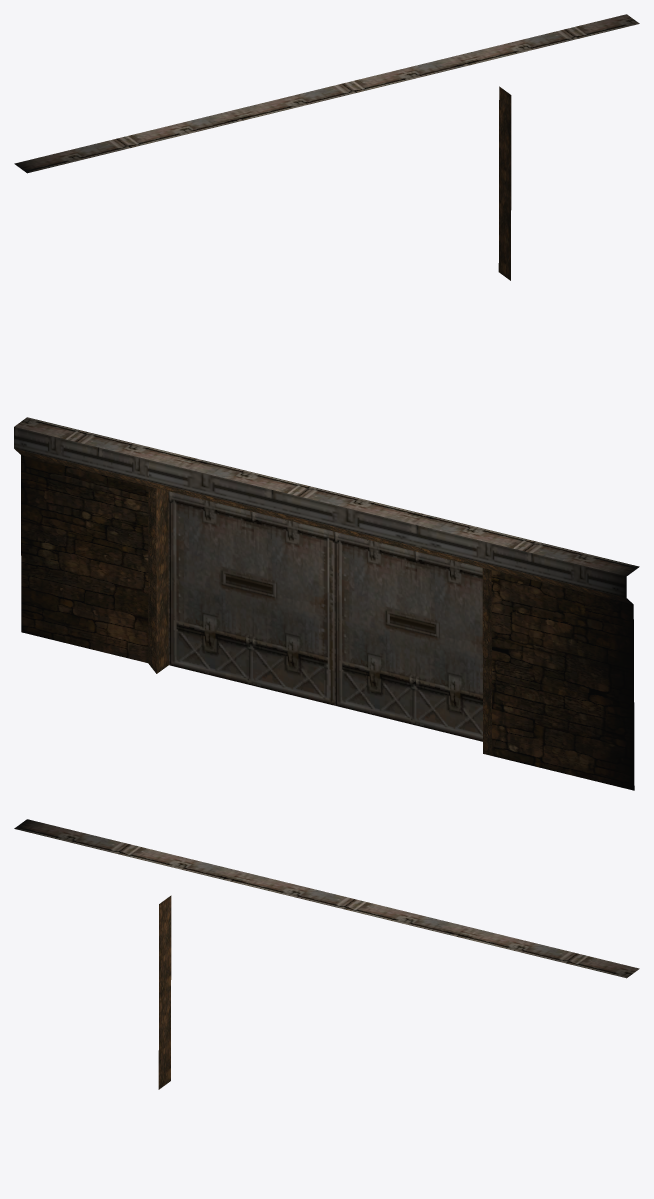
Rendered from M10_Z1_TunnelGate01.glb.
The picture shows the model from 3 angles, top to bottom: view 1: azimuth 30°, elevation 25°; view 2: azimuth 150°, elevation 25°; view 3: azimuth 330°, elevation 25°; orthographic projection.
Parts seen in each view (by area): view 1: M10_Z1_TUNNELGATE01; view 2: M10_Z1_TUNNELGATE01; view 3: M10_Z1_TUNNELGATE01.
Part boxes in pixels (left/top/right/bottom): M10_Z1_TUNNELGATE01: left=14, top=14, right=639, bottom=280; M10_Z1_TUNNELGATE01: left=14, top=417, right=639, bottom=790; M10_Z1_TUNNELGATE01: left=14, top=819, right=639, bottom=1089.
Bounding box in the file's own units: 14.5 × 4.96 × 0.8.
3 materials, 3 textured.
